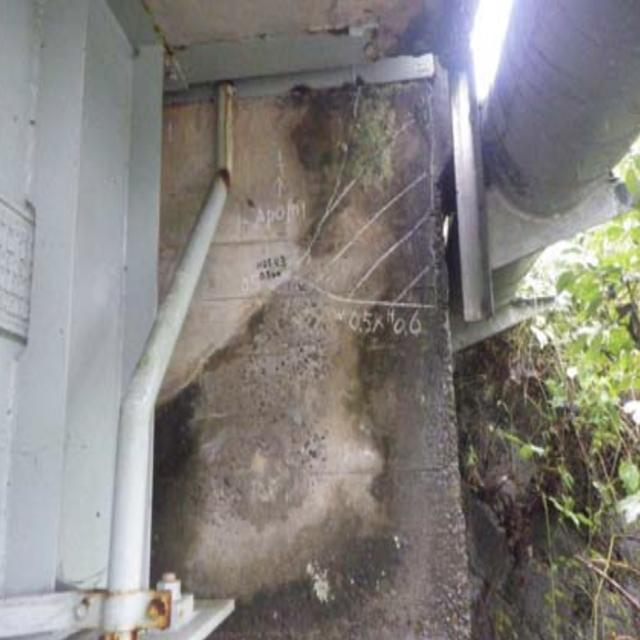leakage: (293, 80, 434, 627)
